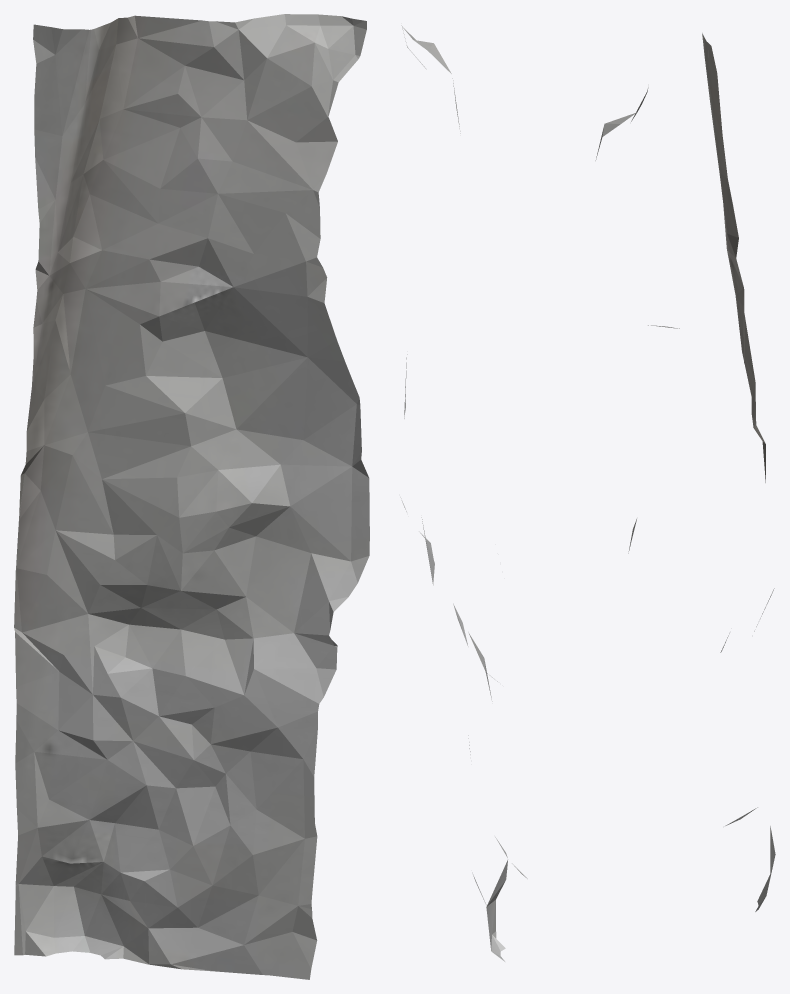
3 renders of one model, left to right at view 1: azimuth 30°, elevation 25°; view 2: azimuth 150°, elevation 25°; view 3: azimuth 270°, elevation 25°, orthographic. The views are drawn at different scales.
Bounding box in the file's own units: 0.2378 × 0.8374 × 0.1602.
1 material, 1 textured.
